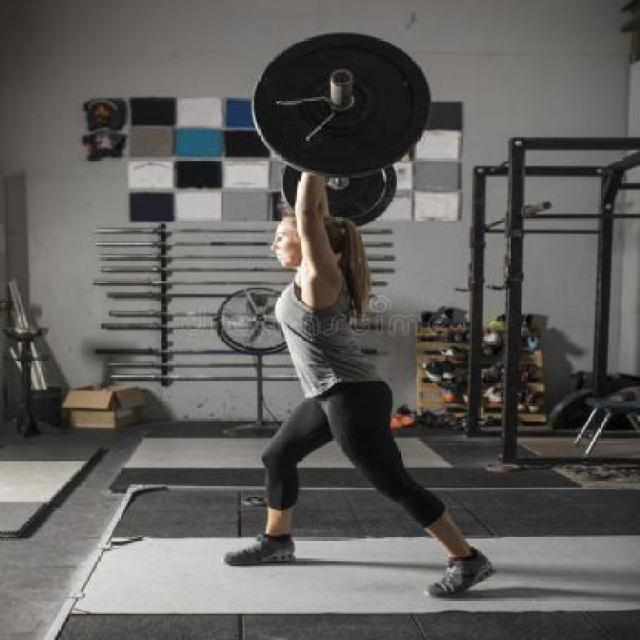barbell: (249, 27, 436, 180)
